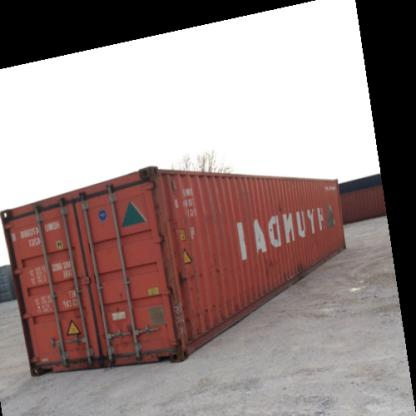Damage: (178, 294, 228, 329), (174, 262, 229, 284), (256, 246, 278, 276), (107, 285, 128, 316), (282, 258, 312, 276), (267, 198, 289, 214), (118, 336, 134, 350)
